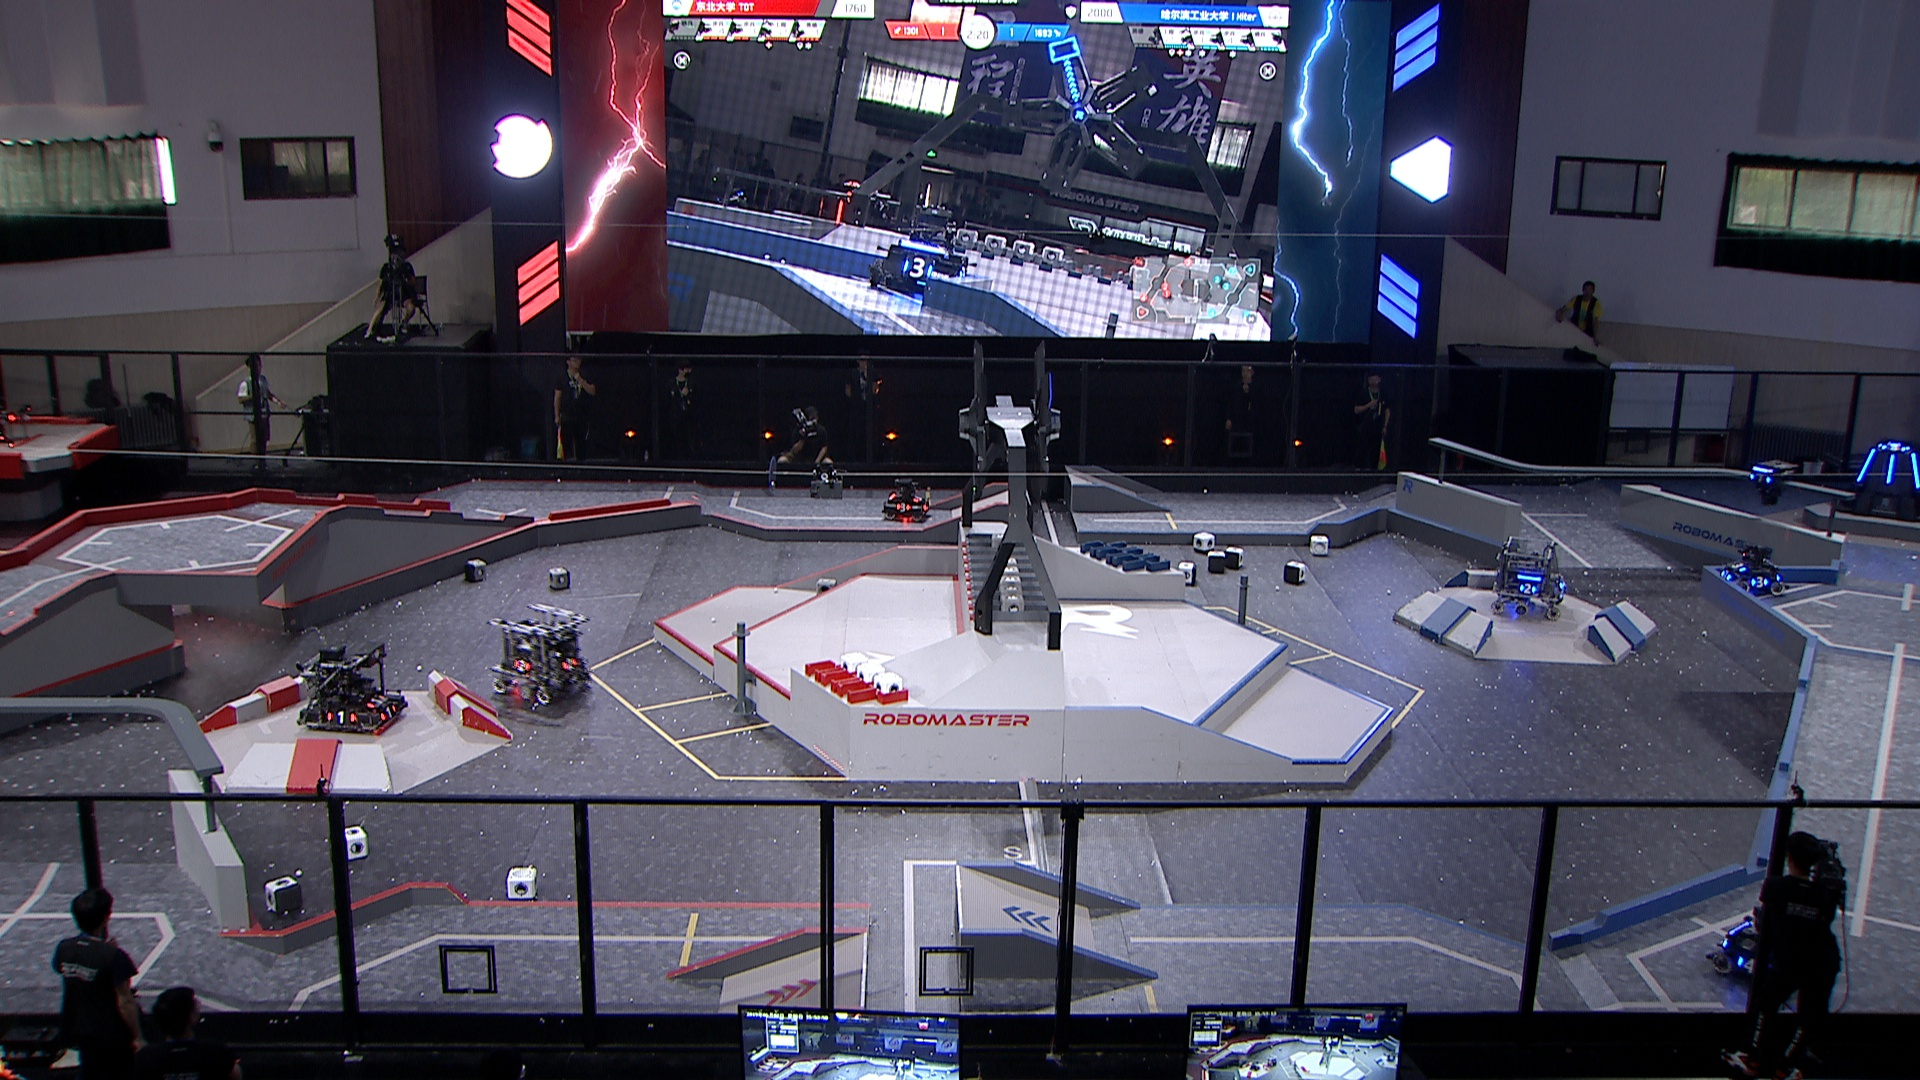armor: (1851, 446, 1880, 483), (323, 709, 359, 727), (375, 700, 400, 723), (1746, 469, 1775, 488), (1883, 452, 1898, 487), (1908, 450, 1920, 491), (1735, 955, 1759, 975), (365, 688, 386, 709), (1879, 440, 1908, 455), (1515, 580, 1539, 597), (1747, 572, 1768, 589), (558, 655, 579, 671), (1727, 559, 1747, 574), (512, 659, 531, 673), (1721, 566, 1735, 583), (895, 498, 911, 513), (1555, 574, 1567, 591), (910, 493, 926, 502)
base: (1836, 436, 1920, 524)
car: (295, 637, 411, 737), (487, 604, 593, 711), (1704, 903, 1809, 997), (1486, 533, 1572, 622), (1717, 545, 1788, 603), (882, 473, 935, 524)
ignore: (865, 200, 981, 299)
watcher: (1745, 454, 1797, 508)
